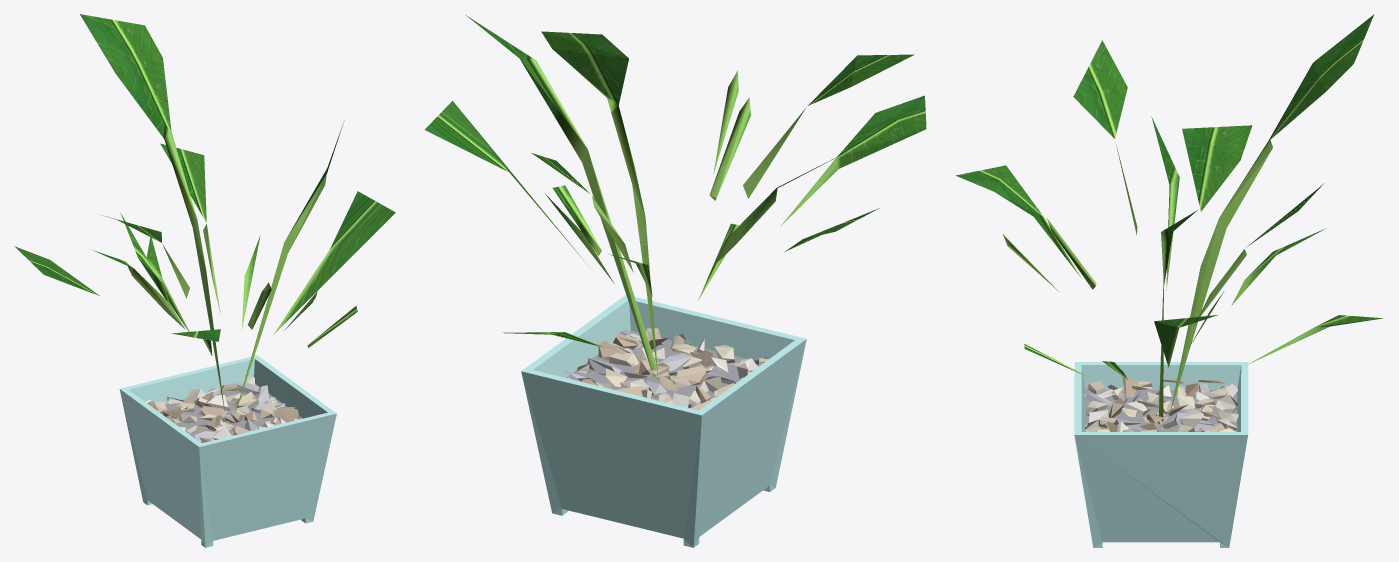
The model's file is bush_indoor_plant.glb.
3 views of the same model, side by side, from view 1: azimuth 30°, elevation 25°; view 2: azimuth 150°, elevation 25°; view 3: azimuth 270°, elevation 25° (orthographic). The views are drawn at different scales.
Visible parts, largest first — view 1: Pot_3_Plane.062, Leaf_Plane.029, Rock_1_Plane.002; view 2: Pot_3_Plane.062, Leaf_Plane.029, Rock_1_Plane.002; view 3: Pot_3_Plane.062, Leaf_Plane.029, Rock_1_Plane.002.
Boxes of the visible parts, x1,y1,x2,y2 form: Pot_3_Plane.062: [119, 355, 336, 547]; Leaf_Plane.029: [14, 14, 395, 413]; Rock_1_Plane.002: [145, 377, 302, 443]; Pot_3_Plane.062: [521, 295, 806, 547]; Leaf_Plane.029: [424, 15, 926, 377]; Rock_1_Plane.002: [564, 328, 768, 410]; Pot_3_Plane.062: [1074, 362, 1248, 547]; Leaf_Plane.029: [956, 14, 1382, 421]; Rock_1_Plane.002: [1084, 377, 1238, 431].
Size of the model in its own units: 0.5263 by 0.6505 by 0.5294.
9 materials, 1 textured.
